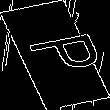P_E: (9, 30, 101, 80)
